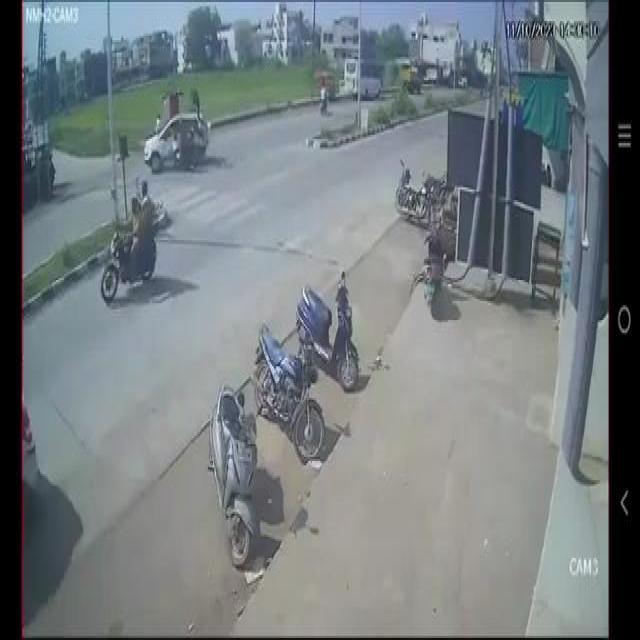accident: (139, 80, 217, 177)
